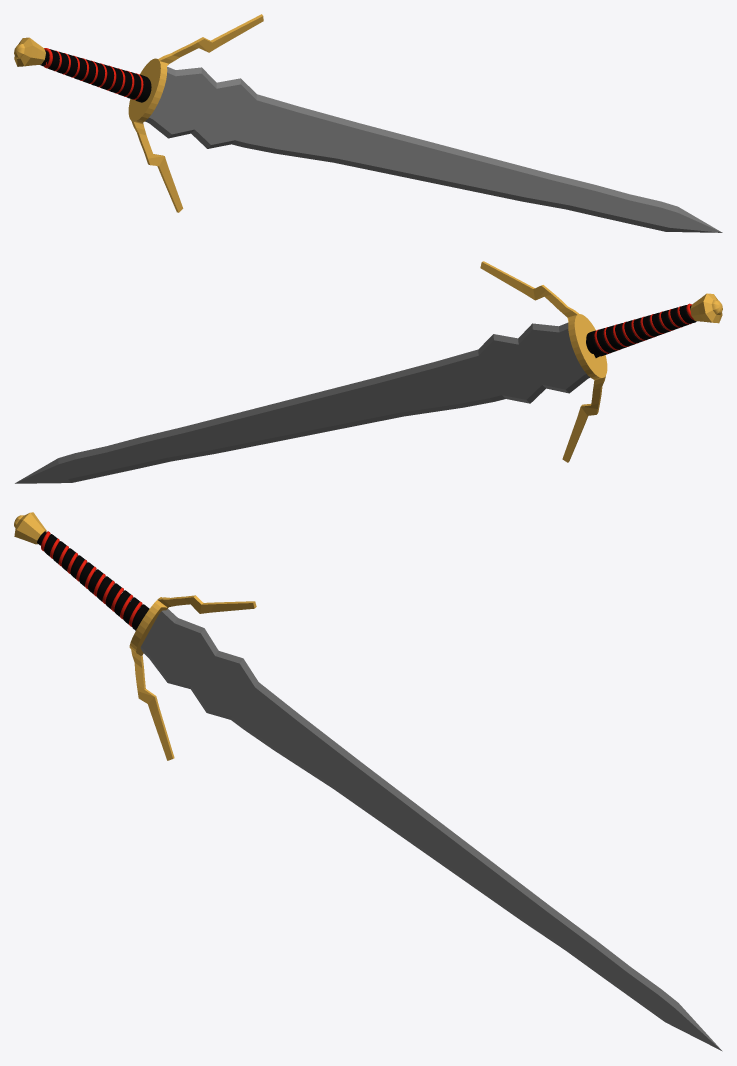
The model's file is legendary_Sword_Colored.fbx.
The picture shows the model from 3 angles, top to bottom: view 1: azimuth 30°, elevation 25°; view 2: azimuth 150°, elevation 25°; view 3: azimuth 330°, elevation 25°; orthographic projection.
Visible parts, largest first — view 1: Sword 2; view 2: Sword 2; view 3: Sword 2.
Boxes of the visible parts, x1,y1,x2,y2 form: Sword 2: [14, 14, 722, 232]; Sword 2: [15, 261, 722, 483]; Sword 2: [14, 512, 722, 1051].
Size of the model in its own units: 750 by 367 by 34.13.
